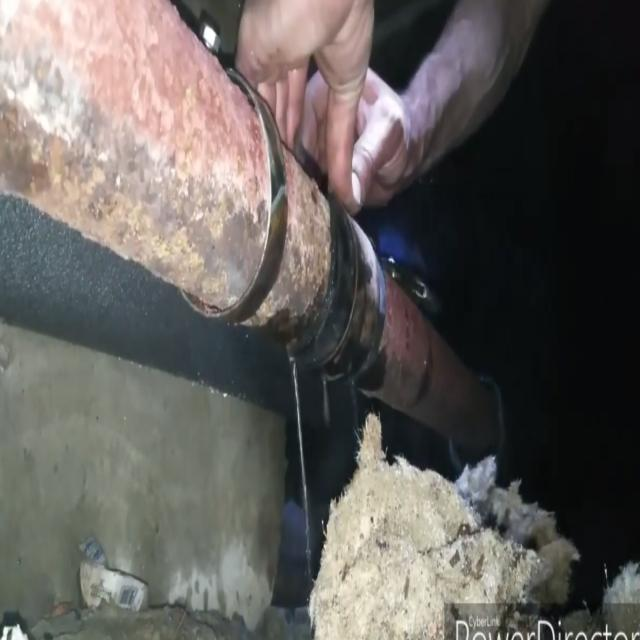leak: (289, 355, 311, 582)
